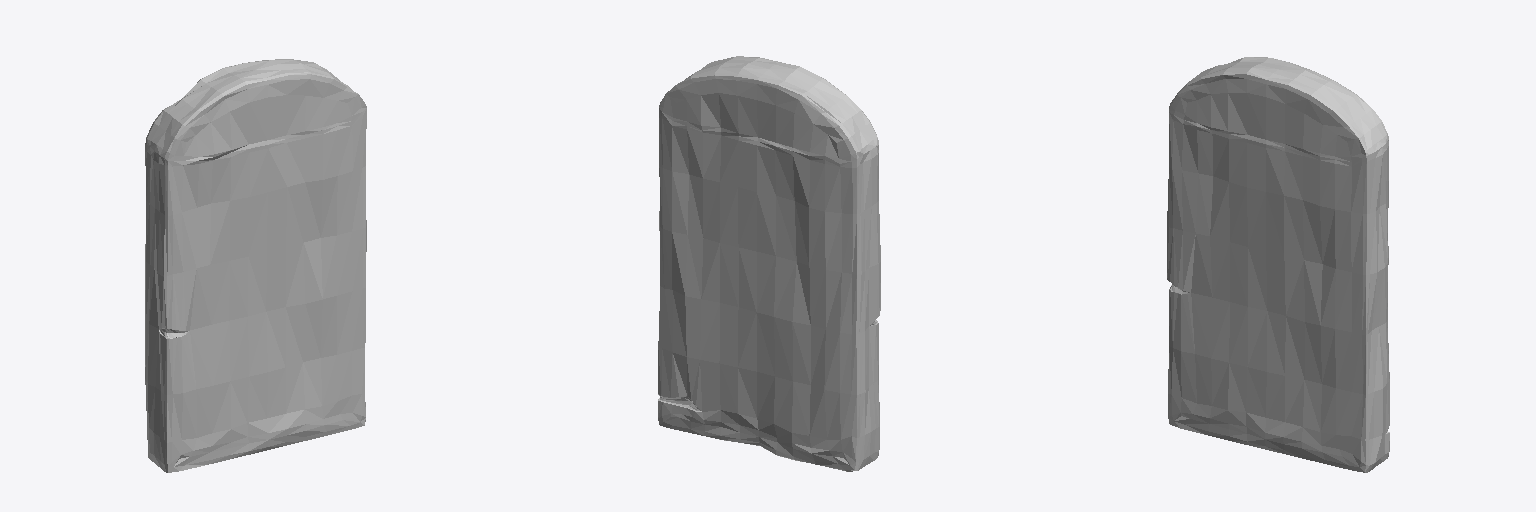
Rendered from tombstone.obj.
The picture shows the model from 3 angles: view 1: azimuth 30°, elevation 25°; view 2: azimuth 150°, elevation 25°; view 3: azimuth 330°, elevation 25°; orthographic projection.
Parts seen in each view (by area): view 1: tomb; view 2: tomb; view 3: tomb.
Boxes of the visible parts, <box> form: tomb: <box>145,59,366,472</box>; tomb: <box>658,56,880,471</box>; tomb: <box>1167,57,1389,472</box>.
Size of the model in its own units: 4.74 by 8.13 by 1.13.